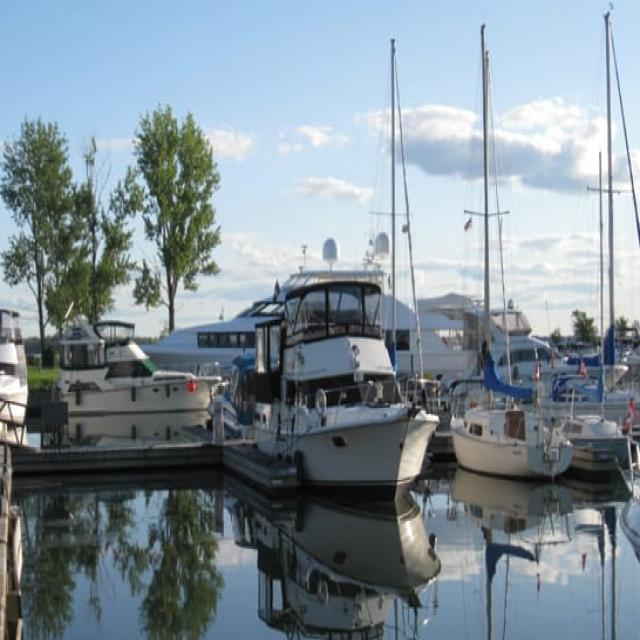houseboat: (235, 260, 428, 482)
